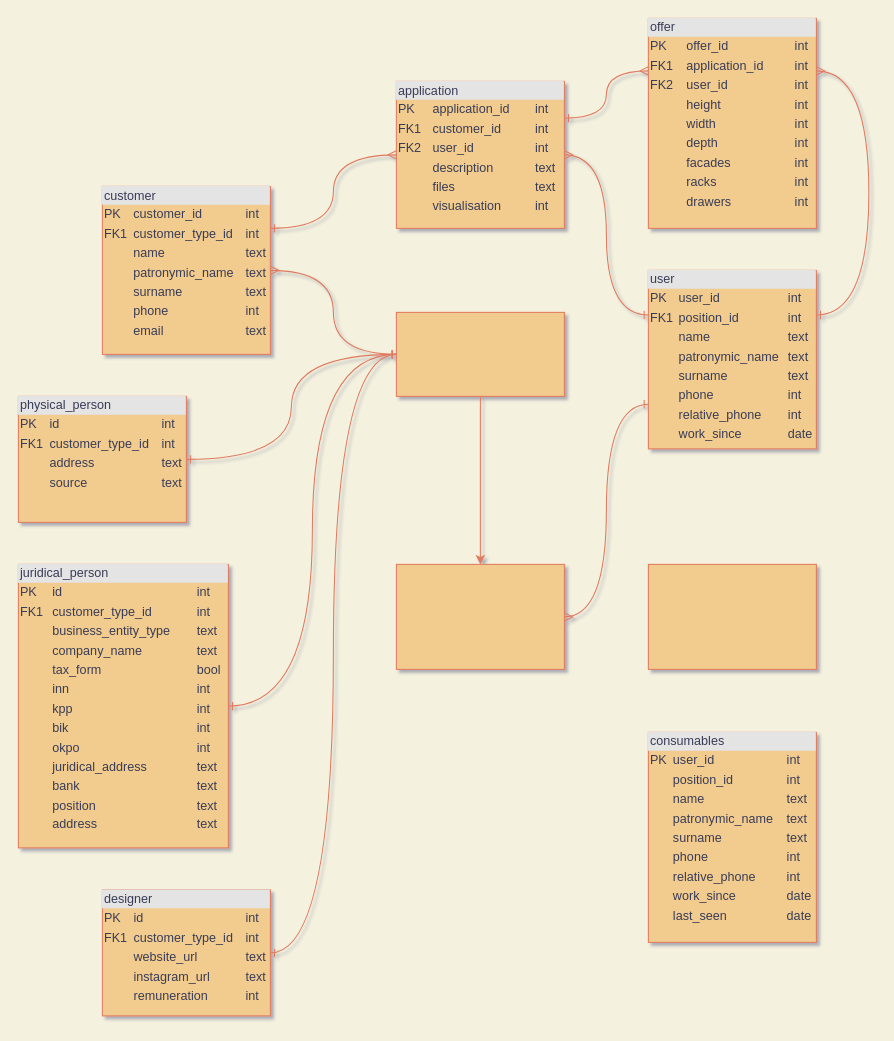
Image size: 894x1041. Some labels were removed from this diagram. Here are the shapes that lost their labels. From the top down, the centre of each, then its label:
At point (479, 353): "customer_type PK customer_type_id int description text".
At point (479, 616): "position PK position_id int salary int description text requirements text".
At point (731, 616): "operations PK operation_id int name int unit text cost text".
